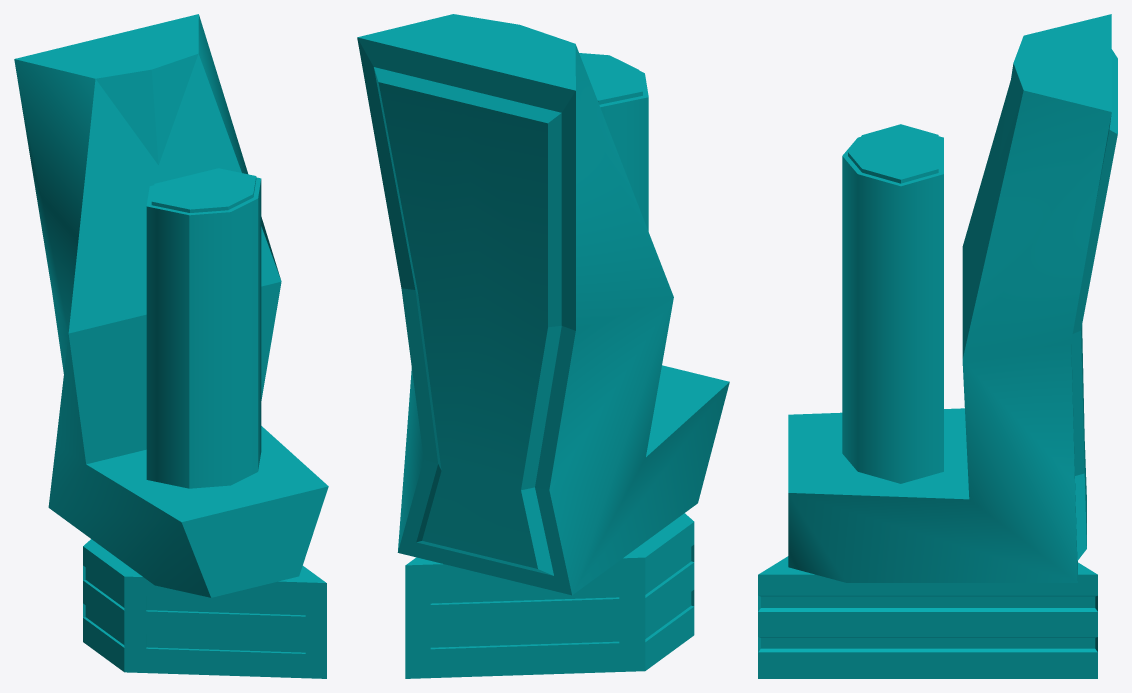
The model's file is tour18.FBX.
The picture shows the model from 3 angles, left to right: view 1: azimuth 30°, elevation 25°; view 2: azimuth 150°, elevation 25°; view 3: azimuth 270°, elevation 25°; orthographic projection. The views are drawn at different scales.
Parts seen in each view (by area): view 1: tour18 L, tour18 immeuble, tour18 base; view 2: tour18 L, tour18 base, tour18 immeuble; view 3: tour18 L, tour18 immeuble, tour18 base.
Boxes of the visible parts, left/top/right/bottom form: tour18 L: left=14, top=14, right=328, bottom=597; tour18 immeuble: left=146, top=168, right=261, bottom=488; tour18 base: left=83, top=539, right=326, bottom=678; tour18 L: left=357, top=14, right=729, bottom=595; tour18 base: left=405, top=513, right=694, bottom=678; tour18 immeuble: left=579, top=53, right=648, bottom=231; tour18 L: left=788, top=14, right=1117, bottom=582; tour18 immeuble: left=842, top=124, right=943, bottom=483; tour18 base: left=758, top=556, right=1097, bottom=678.
Bounding box in the file's own units: 488 × 1178 × 656.
